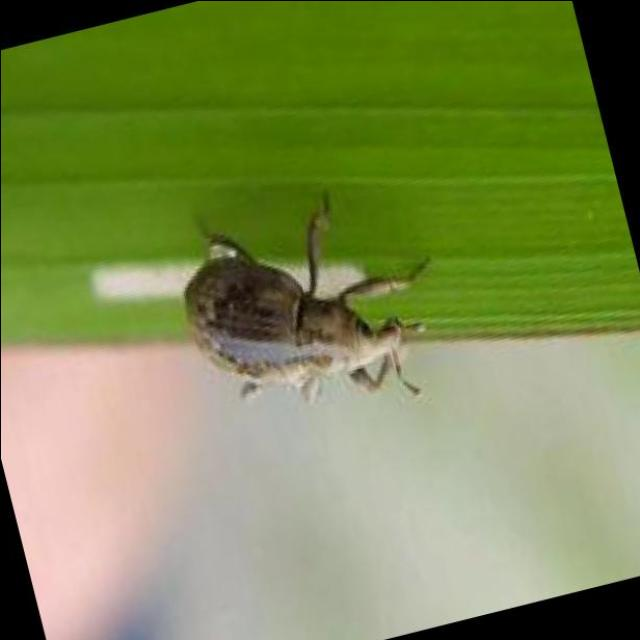ricebug: (183, 195, 428, 399)
